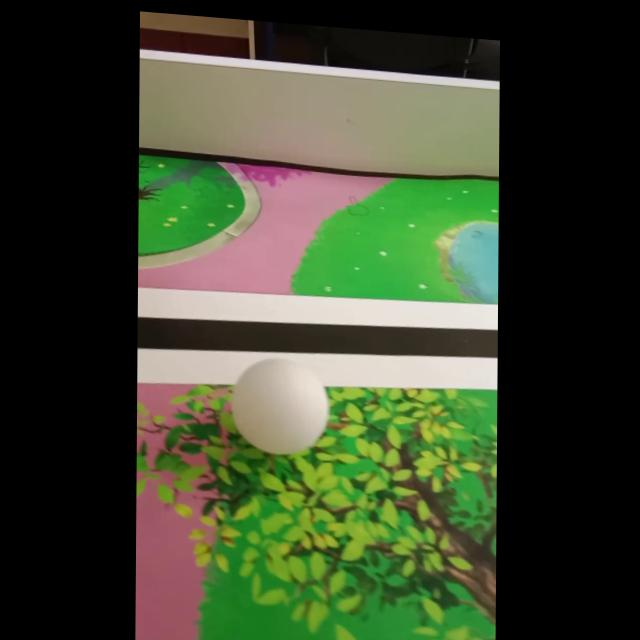white ball: (230, 353, 331, 459)
